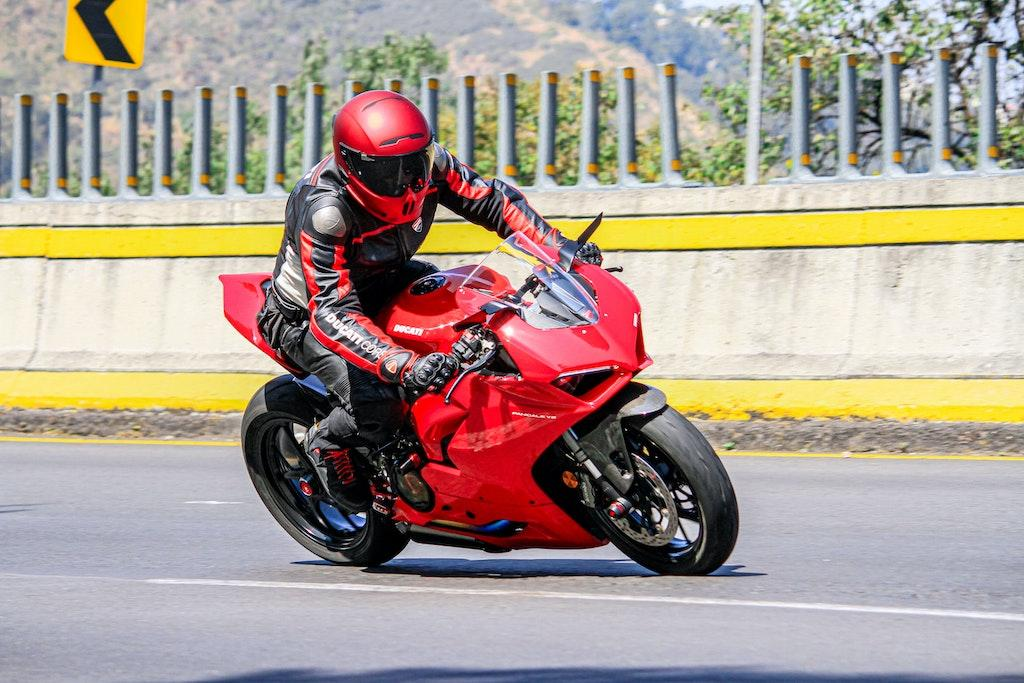helmet: (332, 88, 437, 226)
